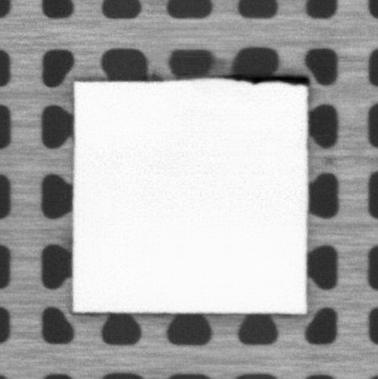DIE_BROKEN: (223, 72, 310, 88)
